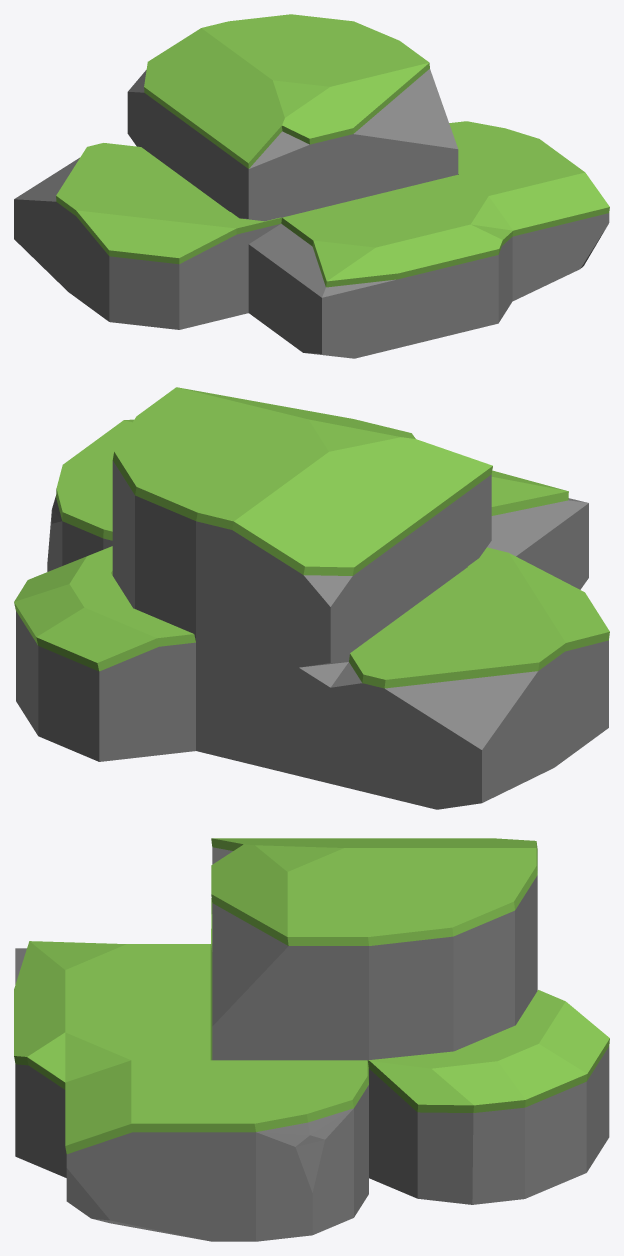
The model's file is stones02_top_grass.fbx.
The picture shows the model from 3 angles, top to bottom: view 1: azimuth 30°, elevation 25°; view 2: azimuth 150°, elevation 25°; view 3: azimuth 270°, elevation 25°; orthographic projection. The views are drawn at different scales.
Visible parts, largest first — view 1: stones02_top_grass_LOD0; view 2: stones02_top_grass_LOD0; view 3: stones02_top_grass_LOD0.
Boxes of the visible parts, box(x1,y1,x2,y2) form: stones02_top_grass_LOD0: box(14, 14, 609, 358); stones02_top_grass_LOD0: box(14, 387, 609, 809); stones02_top_grass_LOD0: box(14, 838, 609, 1241).
Size of what is drawn, in the model's own units: 201 by 81.61 by 183.
